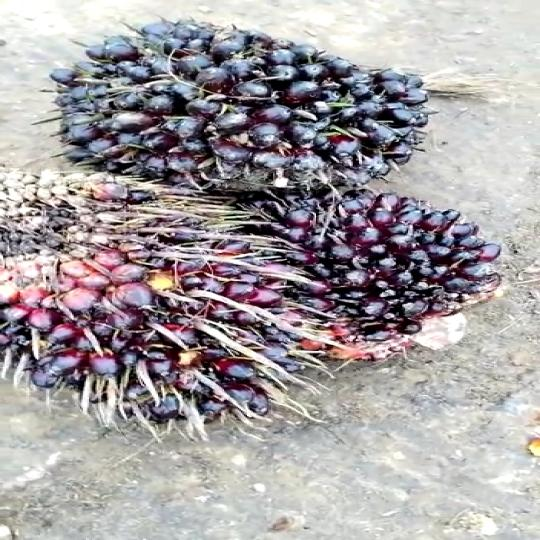kurang masak: (0, 182, 325, 451), (50, 26, 422, 205), (248, 179, 510, 347)
